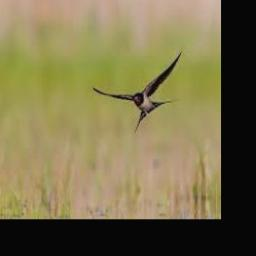Swallow: (92, 51, 181, 129)
